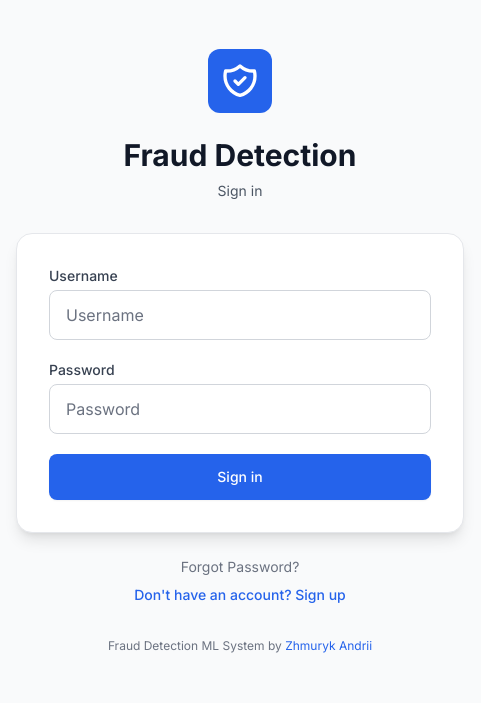
Test: Login Component › Login Flow › displays error on login failure
This screenshot has width=481, height=703.
Step 1. Type "testuser" into the field labelled "Username" → (240, 314), box top-left (49, 290), bottom-right (431, 340)
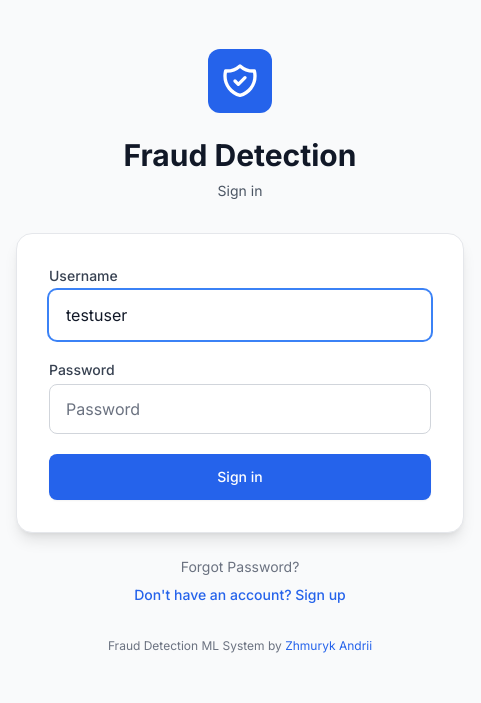
Step 2. Type "wrongpassword" into the password field labelled "Password" → (240, 408), box top-left (49, 384), bottom-right (431, 434)
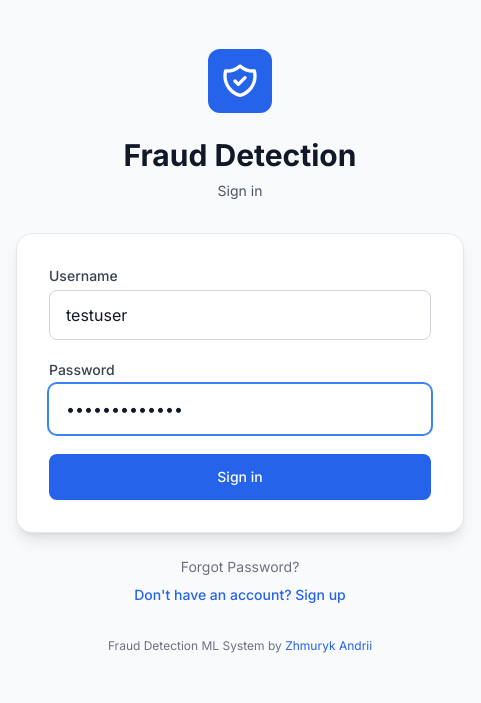
Step 3. Click the button "Sign in" → click(240, 476), box top-left (49, 454), bottom-right (431, 500)
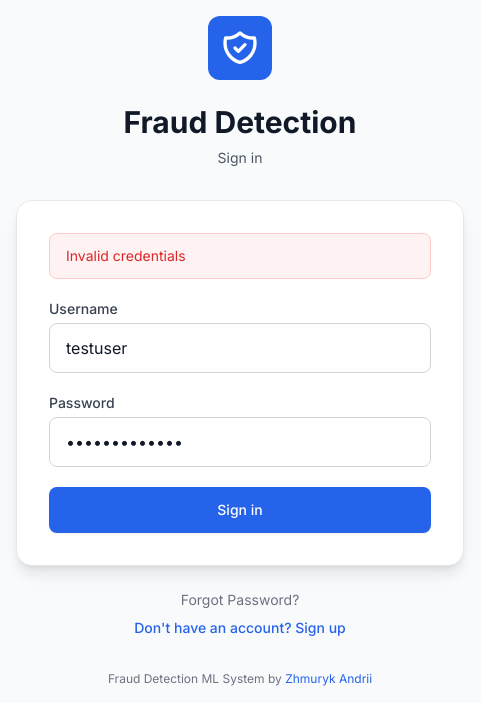
Now the text "Invalid credentials" is shown, box top-left (49, 232), bottom-right (431, 278)
